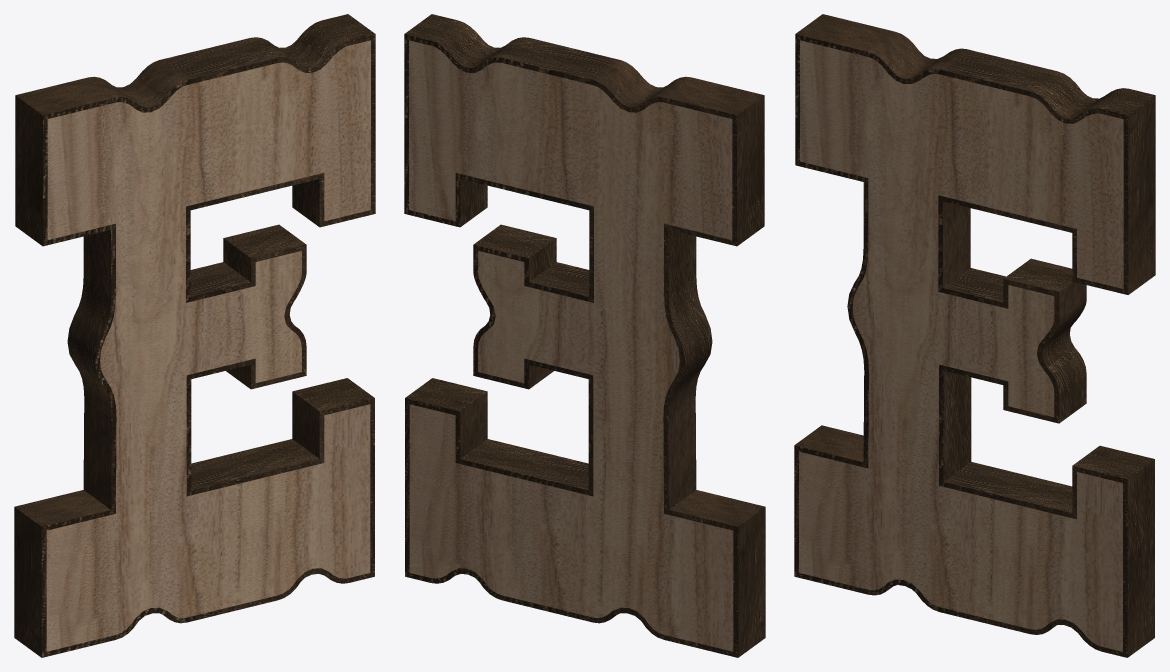
3 views of the same model, side by side, from view 1: azimuth 30°, elevation 25°; view 2: azimuth 150°, elevation 25°; view 3: azimuth 330°, elevation 25° (orthographic).
Visible parts, largest first — view 1: E, E_outline; view 2: E, E_outline; view 3: E, E_outline.
Boxes of the visible parts, x1,y1,x2,y2 form: E: (46, 40, 370, 651); E_outline: (14, 14, 375, 657); E: (409, 40, 733, 651); E_outline: (404, 14, 765, 657); E: (799, 40, 1123, 651); E_outline: (794, 14, 1155, 657).
Bounding box in the file's own units: 70.1 × 109 × 10.
2 materials, 2 textured.
